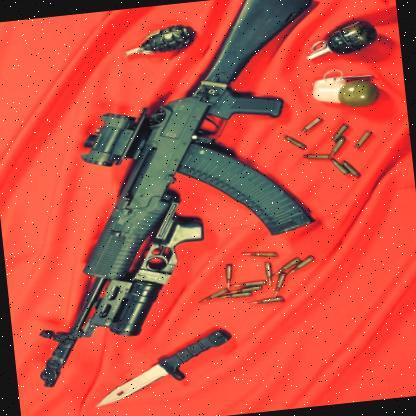rifle: (0, 0, 360, 398)
